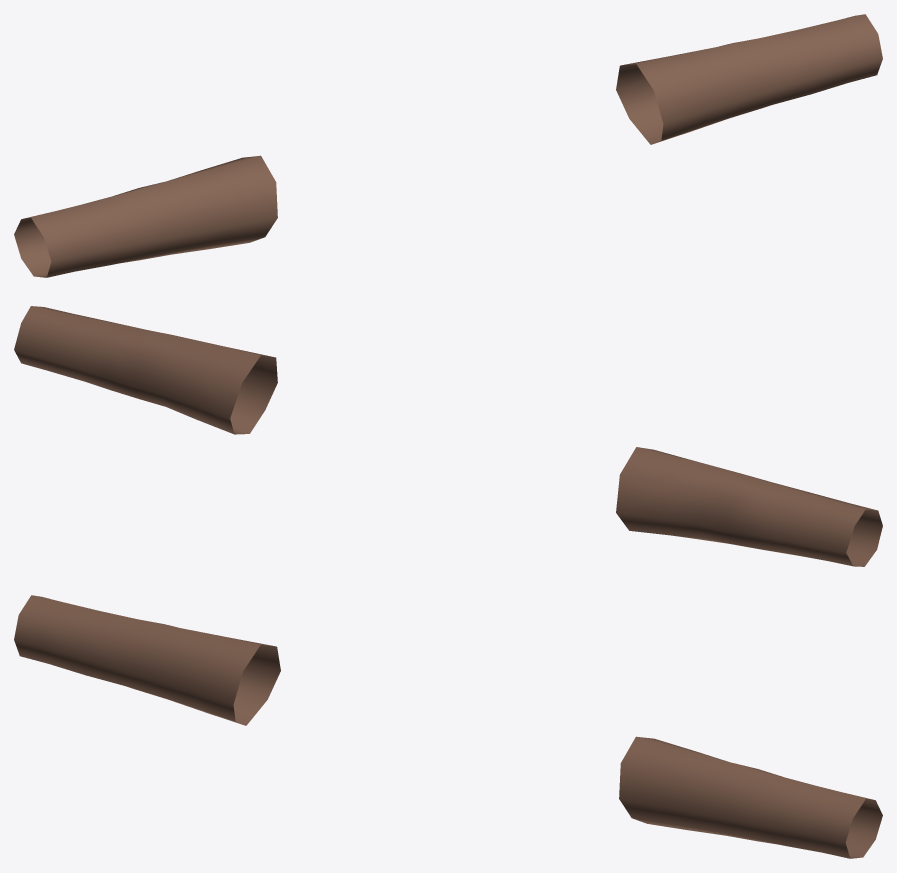
File: Body_Black_ArmA_2.fbx
3 renders of one model, top to bottom at view 1: azimuth 30°, elevation 25°; view 2: azimuth 150°, elevation 25°; view 3: azimuth 330°, elevation 25°, orthographic.
Visible parts, largest first — view 1: Body_Black_ArmA_2; view 2: Body_Black_ArmA_2; view 3: Body_Black_ArmA_2.
Part boxes in pixels (x1,y1,x2,y2): Body_Black_ArmA_2: [14, 14, 882, 277]; Body_Black_ArmA_2: [14, 306, 882, 566]; Body_Black_ArmA_2: [14, 595, 882, 858].
Bounding box in the file's own units: 95.86 × 9.1 × 9.47.
